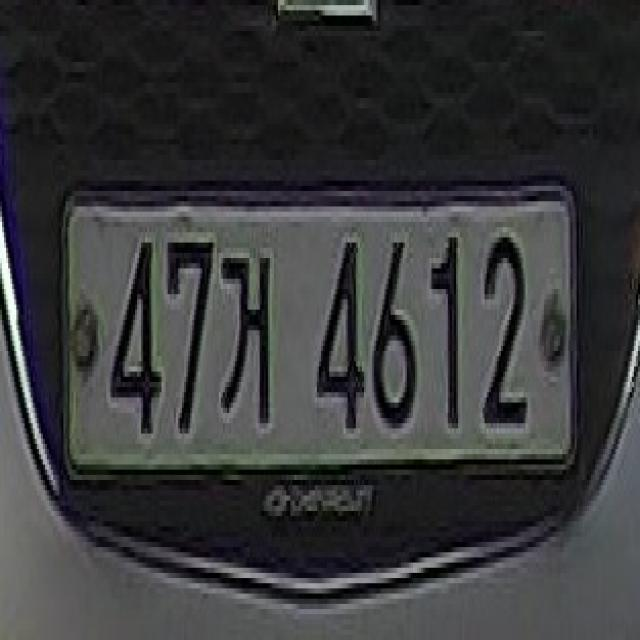1: (423, 222, 473, 456)
2: (479, 222, 536, 447)
4: (104, 227, 164, 458), (312, 226, 367, 447)
6: (369, 223, 422, 440)
7: (166, 229, 214, 451)
geo: (216, 236, 277, 436)
license_plate: (53, 163, 592, 500)
